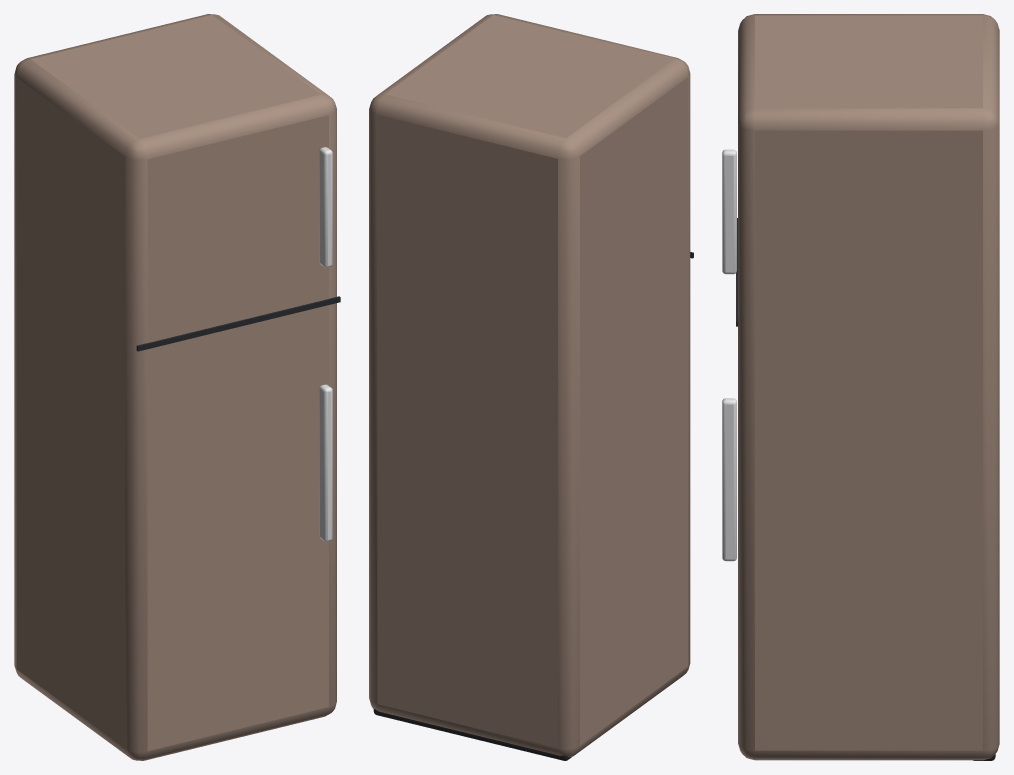
The model's file is fridge_old.fbx.
The picture shows the model from 3 angles, left to right: view 1: azimuth 30°, elevation 25°; view 2: azimuth 150°, elevation 25°; view 3: azimuth 270°, elevation 25°; orthographic projection. The views are drawn at different scales.
Visible parts, largest first — view 1: fridge_old; view 2: fridge_old; view 3: fridge_old.
Boxes of the visible parts, x1=… form: fridge_old: x1=14, y1=14, x2=340, y2=760; fridge_old: x1=369, y1=14, x2=693, y2=760; fridge_old: x1=722, y1=14, x2=999, y2=760.
Bounding box in the file's own units: 0.6 × 1.7 × 0.6575.
